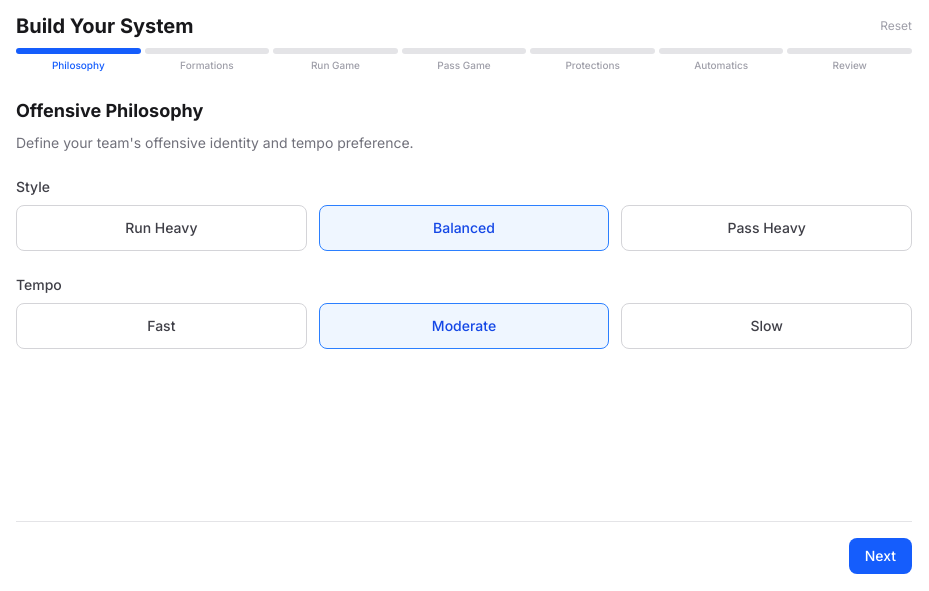
Test: SystemBuilder › navigates to Formations step when clicking Next
Click the button with test id "next-button" at [880, 556], box [849,538,912,574]
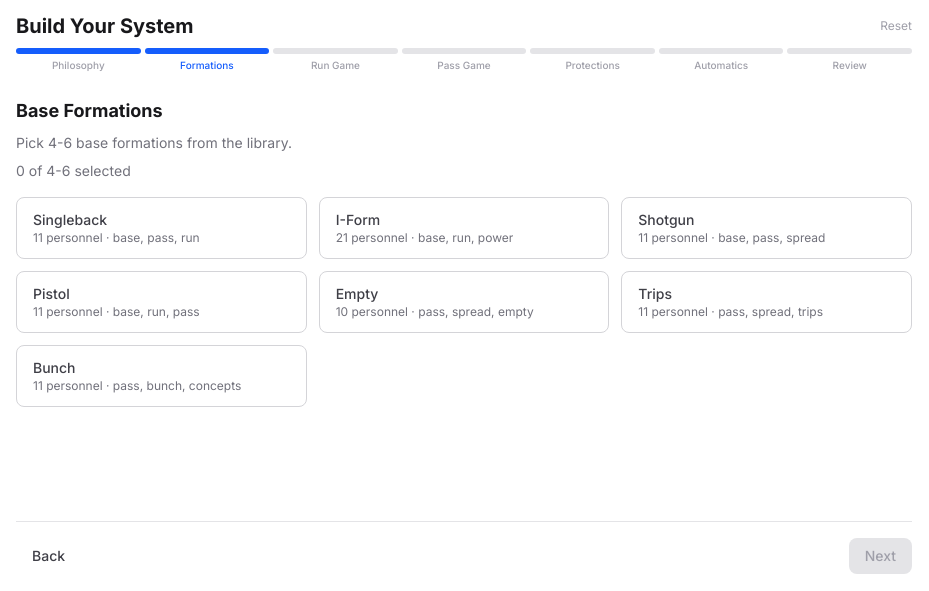
Expected: the element with test id "step-formations" is shown, [16,97,912,407]
Expected: the heading "Base Formations" is shown, [16,100,163,121]
